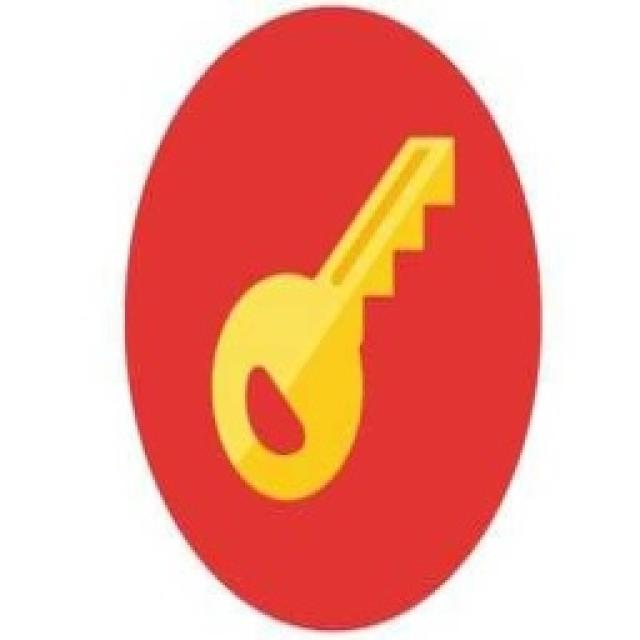anahtar: (202, 125, 471, 510)
